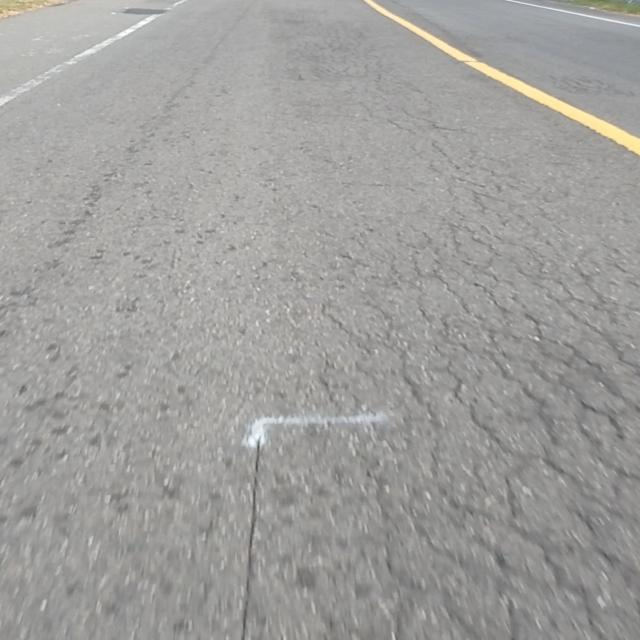Retak Buaya: (297, 229, 640, 640)
